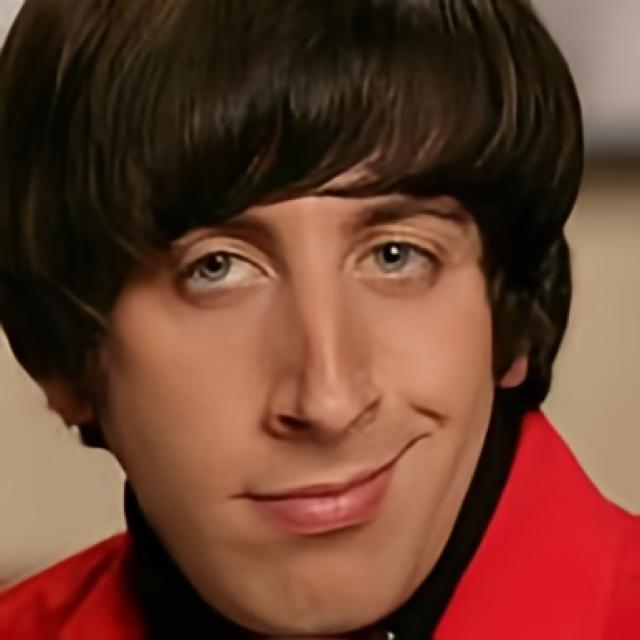content: (96, 63, 496, 640)
